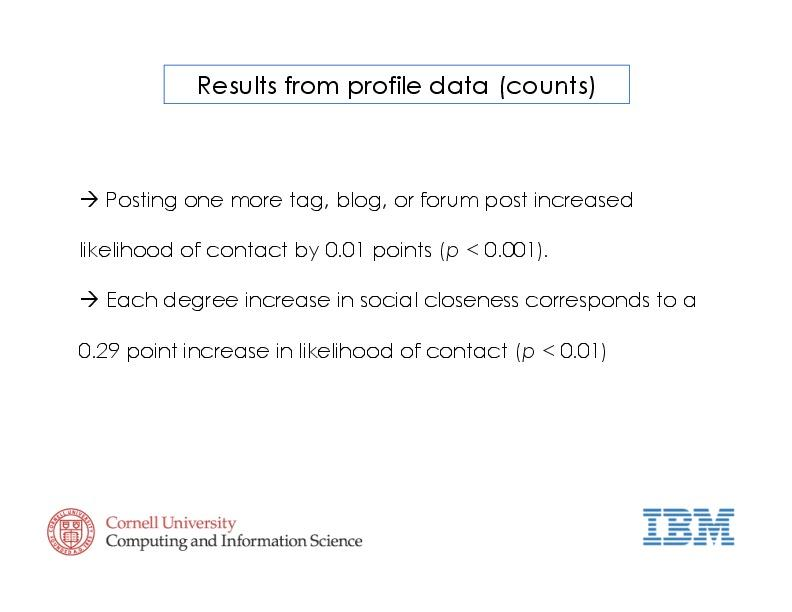paragraph: (71, 182, 717, 374)
subtitle: (97, 506, 382, 572)
title: (159, 59, 636, 109)
